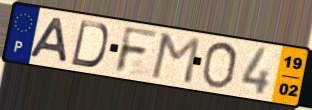4: (239, 46, 272, 97)
A: (27, 16, 70, 65)
D: (69, 19, 111, 70)
F: (112, 24, 161, 76)
M: (148, 31, 203, 86)
O: (199, 41, 240, 90)
